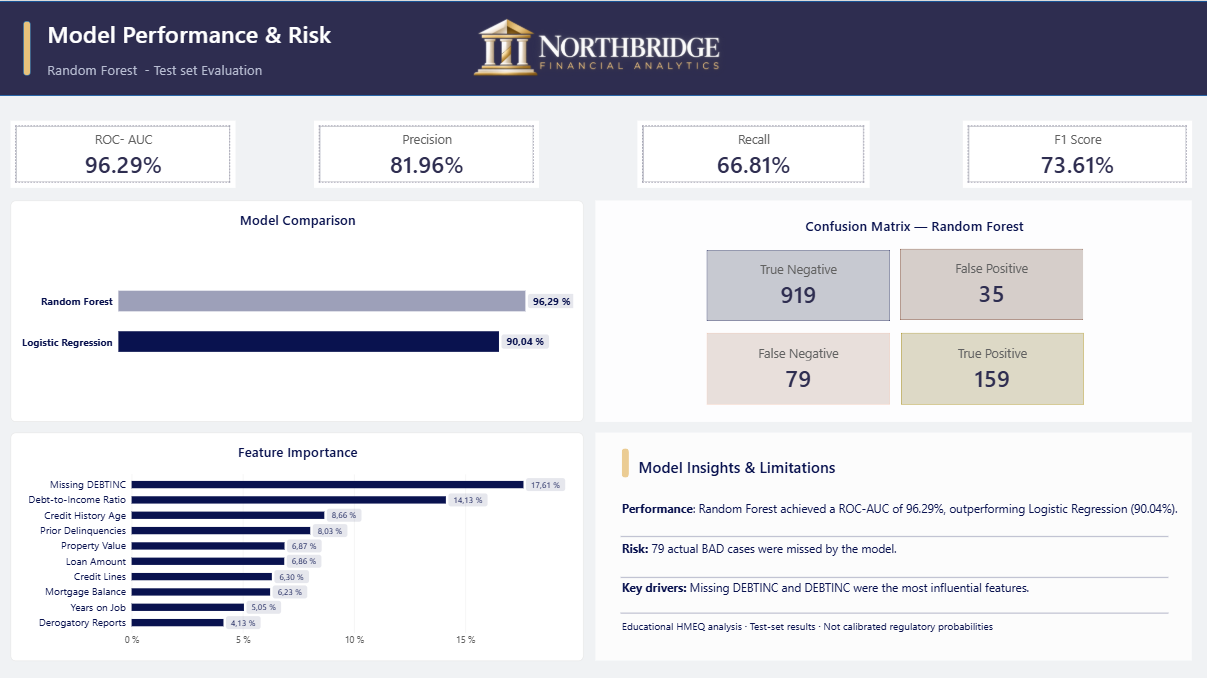

The dashboard page shown, as its layout file describes it:
{"tool":"powerbi","page":{"name":"Página 2","canvas":[1920,1080],"ordinal":1},"visuals":[{"type":"cardVisual","fields":{"Data":["credit_risk_powerbi.ROC AUC Display"]},"box":[18.3,190,357.1,106.5],"z":0},{"type":"shape","box":[0,0,1920.4,150.4],"z":1000},{"type":"image","box":[650,0,595.2,145.7],"z":2000},{"type":"textbox","box":[76.7,26.7,780.1,123.7],"z":3000},{"type":"shape","box":[38.3,31.7,12,87],"z":4000},{"type":"cardVisual","fields":{"Data":["credit_risk_powerbi.Precision Display"]},"box":[500,190,357.1,106.5],"z":5000},{"type":"cardVisual","fields":{"Data":["credit_risk_powerbi.Recall Display"]},"box":[1013.3,190,368.1,106.5],"z":6000},{"type":"cardVisual","fields":{"Data":["credit_risk_powerbi.F1 Score Display"]},"box":[1530,190,363.4,106.5],"z":7000},{"type":"barChart","title":"Model Comparison","fields":{"Category":["Model_Comparison.Model"],"Y":["Sum(Model_Comparison.Value)"]},"box":[18.3,316.7,910,351.7],"z":8000},{"type":"clusteredBarChart","title":"Feature Importance","fields":{"Category":["Feature_Importance.Variable"],"Y":["Sum(Feature_Importance.Importance)"]},"box":[18.3,685,910,363.3],"z":9000},{"type":"textbox","box":[946.7,685,946.7,361.7],"z":10000},{"type":"shape","box":[946.7,316.7,946.7,351.7],"z":11000},{"type":"cardVisual","fields":{"Data":["Sum(Confusion_Matrix.Clients)"]},"box":[1115,386,308.6,130],"z":12000},{"type":"cardVisual","fields":{"Data":["Sum(Confusion_Matrix.Clients)"]},"box":[1421.8,384.3,308.6,130],"z":13000},{"type":"cardVisual","fields":{"Data":["Sum(Confusion_Matrix.Clients)"]},"box":[1115,518.2,308.6,131.6],"z":14000},{"type":"cardVisual","fields":{"Data":["Sum(Confusion_Matrix.Clients)"]},"box":[1423.5,518.2,307,131.6],"z":15000},{"type":"textbox","box":[1279.7,342.4,527.9,39.2],"z":16000},{"type":"shape","box":[986.7,775,870,150],"z":17000},{"type":"shape","box":[986.7,840,870,150],"z":18000},{"type":"shape","box":[986.7,935,870,73.3],"z":19000},{"type":"shape","box":[988.3,710,11.7,46.7],"z":20000}]}

Visuals, with their boxes in screenshot pixels (x1, y1, x2, y2), scaled from the page's 1920x1080 canvas onto the 1207x678 screenshot:
cardVisual - credit_risk_powerbi.ROC AUC Display: 12, 119, 236, 186
shape: 0, 0, 1206, 94
image: 409, 0, 783, 91
textbox: 48, 17, 539, 94
shape: 24, 20, 32, 75
cardVisual - credit_risk_powerbi.Precision Display: 314, 119, 539, 186
cardVisual - credit_risk_powerbi.Recall Display: 637, 119, 868, 186
cardVisual - credit_risk_powerbi.F1 Score Display: 962, 119, 1190, 186
"Model Comparison" barChart: 12, 199, 584, 420
"Feature Importance" clusteredBarChart: 12, 430, 584, 658
textbox: 595, 430, 1190, 657
shape: 595, 199, 1190, 420
cardVisual - Sum(Confusion_Matrix.Clients): 701, 242, 895, 324
cardVisual - Sum(Confusion_Matrix.Clients): 894, 241, 1088, 323
cardVisual - Sum(Confusion_Matrix.Clients): 701, 325, 895, 408
cardVisual - Sum(Confusion_Matrix.Clients): 895, 325, 1088, 408
textbox: 804, 215, 1136, 240
shape: 620, 487, 1167, 581
shape: 620, 527, 1167, 622
shape: 620, 587, 1167, 633
shape: 621, 446, 629, 475
